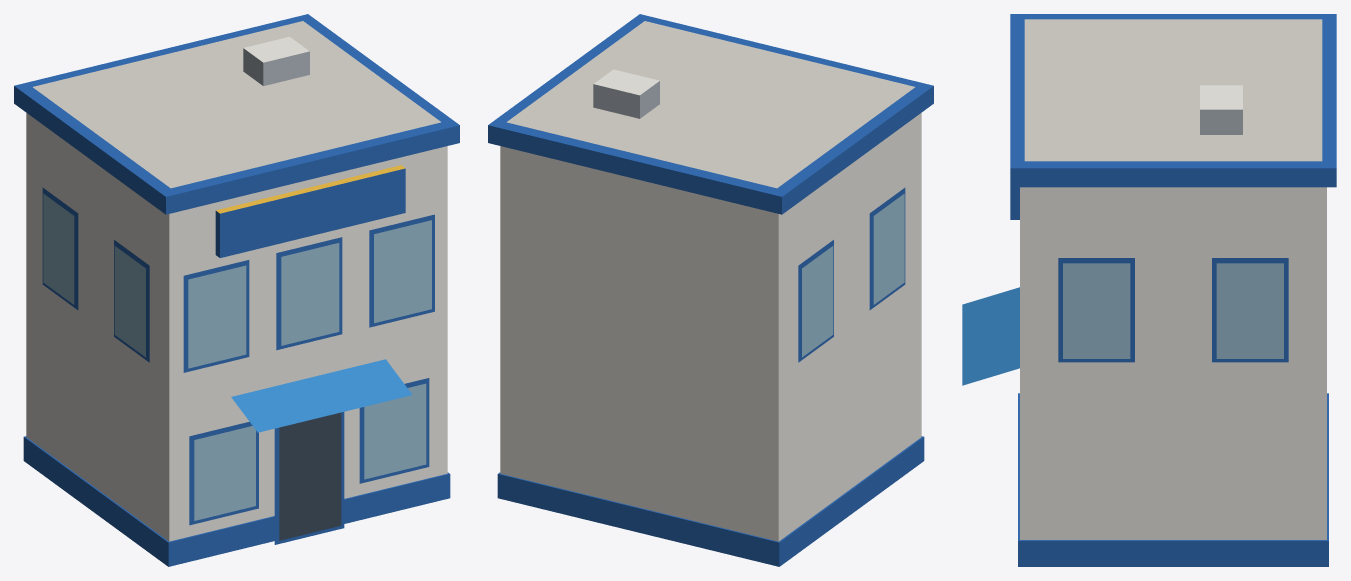
The model's file is B_Police.fbx.
3 views of the same model, side by side, from view 1: azimuth 30°, elevation 25°; view 2: azimuth 150°, elevation 25°; view 3: azimuth 270°, elevation 25° (orthographic). The views are drawn at different scales.
Visible parts, largest first — view 1: B_Police.001; view 2: B_Police.001; view 3: B_Police.001.
Boxes of the visible parts, x1,y1,x2,y2 form: B_Police.001: [14, 14, 459, 566]; B_Police.001: [488, 14, 933, 566]; B_Police.001: [962, 14, 1336, 566].
Size of the model in its own units: 3.8 by 4.97 by 3.9.
